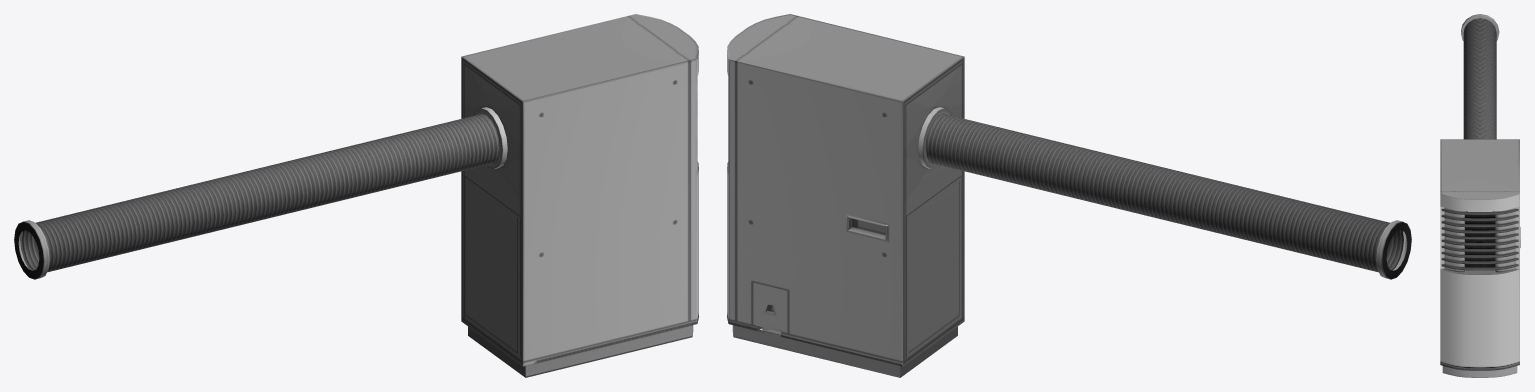
Rendered from AirConditioner_v01.fbx.
The picture shows the model from 3 angles, left to right: view 1: azimuth 30°, elevation 25°; view 2: azimuth 150°, elevation 25°; view 3: azimuth 270°, elevation 25°; orthographic projection. The views are drawn at different scales.
Parts seen in each view (by area): view 1: air_conditioner; view 2: air_conditioner; view 3: air_conditioner.
Part boxes in pixels (x1=…): air_conditioner: x1=14, y1=14, x2=698, y2=377; air_conditioner: x1=727, y1=14, x2=1411, y2=377; air_conditioner: x1=1440, y1=14, x2=1520, y2=377.
Bounding box in the file's own units: 3.6 × 1.46 × 0.593.
